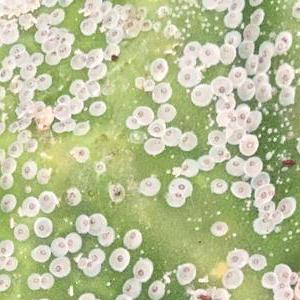Femea: (228, 128, 256, 148), (214, 80, 232, 111), (44, 38, 68, 59), (12, 76, 48, 89), (125, 105, 147, 125), (208, 130, 223, 157), (229, 157, 260, 170), (253, 175, 267, 201), (3, 47, 21, 67), (56, 95, 73, 116), (77, 214, 98, 228), (254, 73, 267, 95), (217, 112, 238, 125), (239, 105, 252, 126), (132, 74, 152, 87), (39, 192, 56, 207), (153, 82, 167, 100), (171, 178, 188, 192), (248, 54, 265, 68), (276, 283, 290, 299), (178, 263, 192, 279), (137, 262, 151, 278), (25, 54, 37, 72), (36, 220, 49, 236), (180, 131, 191, 149), (255, 214, 269, 228), (153, 61, 166, 76), (170, 193, 185, 206), (165, 128, 178, 143), (278, 201, 293, 214), (24, 162, 37, 177), (201, 47, 214, 62), (127, 231, 140, 246), (178, 69, 194, 81), (112, 250, 124, 266), (192, 88, 205, 102), (51, 261, 65, 274), (92, 100, 104, 115), (242, 80, 253, 96), (211, 179, 225, 191), (67, 234, 79, 248), (160, 103, 171, 118), (25, 200, 37, 213), (52, 240, 66, 251), (180, 57, 196, 66), (185, 42, 196, 55), (123, 282, 138, 291), (1, 197, 12, 209), (148, 283, 159, 295), (148, 123, 161, 133), (231, 252, 242, 263), (210, 223, 223, 232), (235, 184, 246, 194), (36, 247, 46, 258), (272, 211, 281, 222), (261, 203, 271, 212), (9, 145, 17, 156), (233, 67, 240, 79), (265, 274, 272, 285)
Linfa: (260, 125, 277, 142), (282, 229, 293, 242), (272, 102, 282, 116), (275, 177, 287, 186), (259, 106, 270, 114), (283, 114, 288, 124), (278, 121, 284, 129), (286, 125, 295, 130)
Macho: (5, 215, 15, 228), (65, 284, 74, 297), (15, 205, 23, 218)
